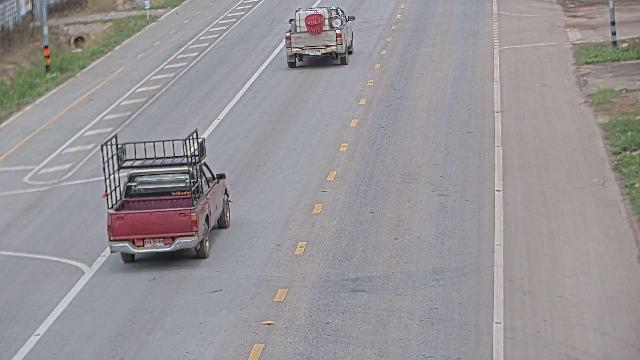pickup-truck: (99, 128, 232, 263), (284, 5, 355, 68)
